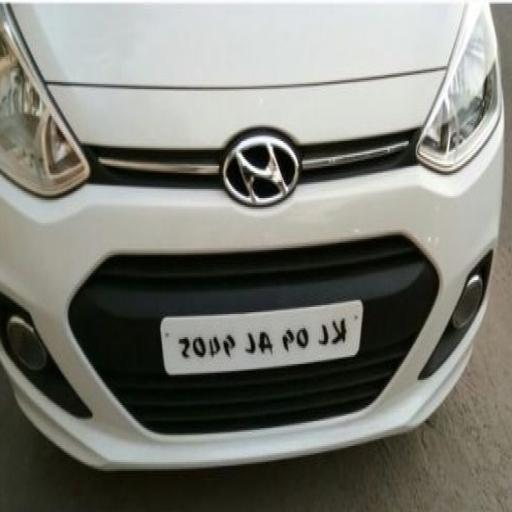License: (172, 295, 358, 383)
